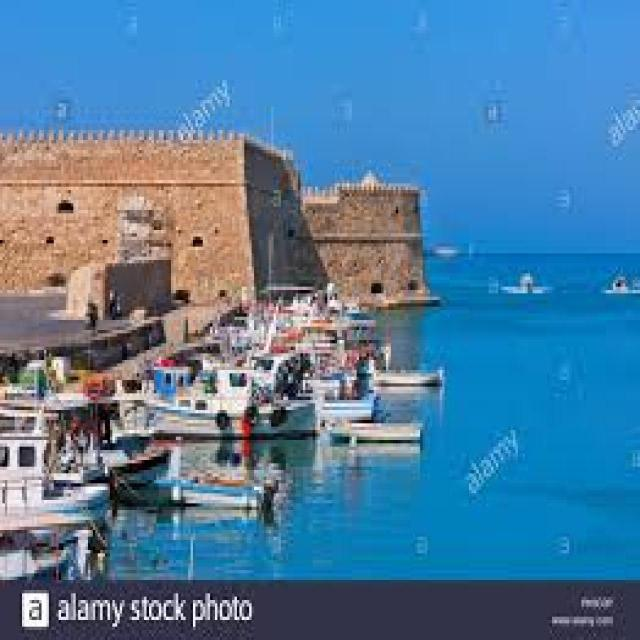Kules: (1, 131, 440, 310)
